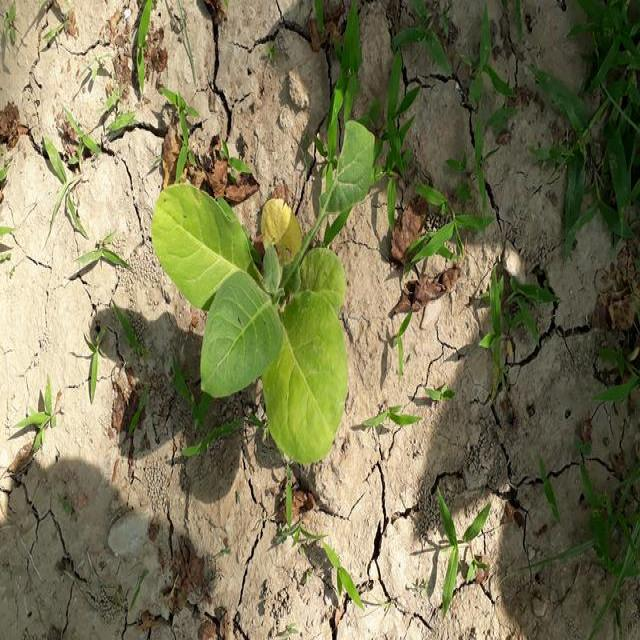crop: (150, 84, 372, 470)
